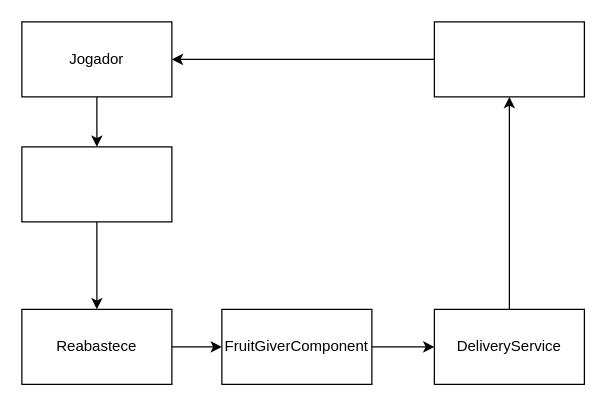
The diagram is 606 pixels wide and 406 high, and some of its shapes have lost their labels. The centre of each missing label's shape, as x and y in pixels:
"DeliveryController" goes at pixel 508 59.
"Entrega" goes at pixel 96 184.
